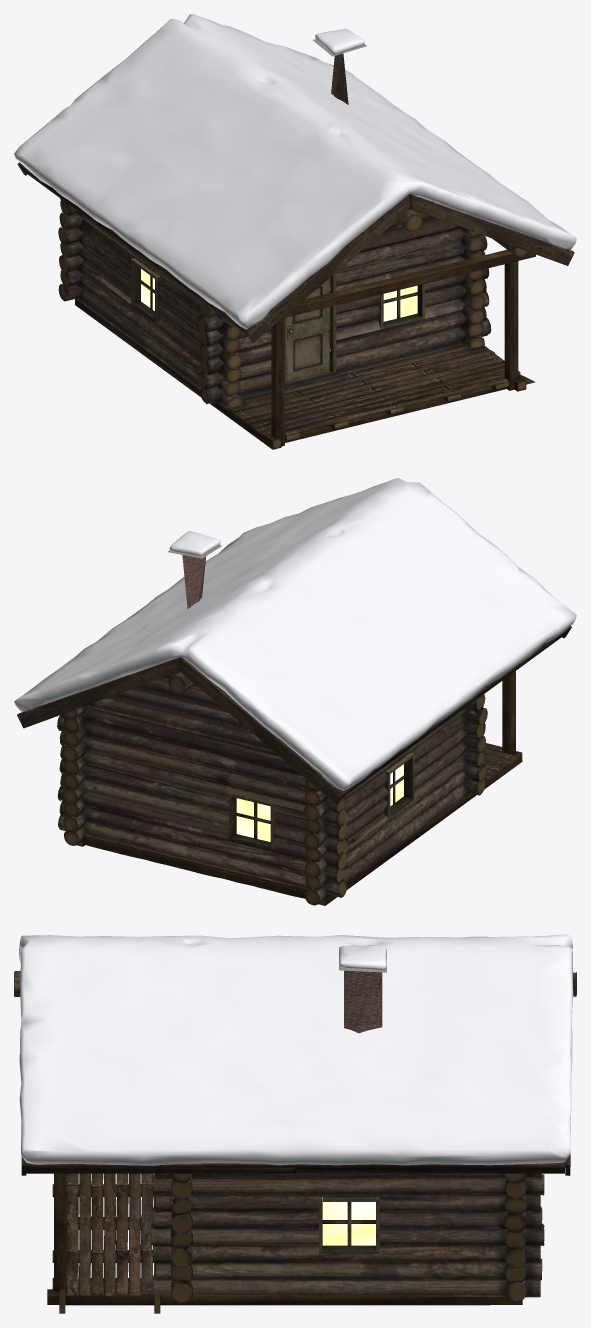
The model's file is cottage.glb.
The picture shows the model from 3 angles, top to bottom: view 1: azimuth 30°, elevation 25°; view 2: azimuth 150°, elevation 25°; view 3: azimuth 270°, elevation 25°; orthographic projection. The views are drawn at different scales.
Visible parts, largest first — view 1: roof_snow, Object_8, Object_9, Object_4, Object_6, Object_10, Object_5, Object_12, Object_20, chimney_snow, chimney; view 2: roof_snow, Object_8, Object_9, Object_10, Object_6, Object_5, Object_20, chimney, chimney_snow, Object_4; view 3: roof_snow, Object_9, Object_4, Object_6, Object_10, Object_8, chimney, Object_20, Object_5, chimney_snow.
Part boxes in pixels (x1=…): roof_snow: x1=14, y1=14, x2=576, y2=329; Object_8: x1=58, y1=198, x2=491, y2=404; Object_9: x1=76, y1=209, x2=528, y2=409; Object_4: x1=227, y1=341, x2=520, y2=436; Object_6: x1=75, y1=250, x2=535, y2=449; Object_10: x1=17, y1=162, x2=574, y2=342; Object_5: x1=131, y1=258, x2=424, y2=386; Object_12: x1=286, y1=278, x2=330, y2=381; Object_20: x1=141, y1=269, x2=417, y2=321; chimney_snow: x1=315, y1=28, x2=364, y2=54; chimney: x1=331, y1=53, x2=348, y2=104; roof_snow: x1=14, y1=478, x2=576, y2=790; Object_8: x1=57, y1=673, x2=487, y2=897; Object_9: x1=62, y1=671, x2=470, y2=905; Object_10: x1=17, y1=626, x2=571, y2=804; Object_6: x1=76, y1=671, x2=522, y2=905; Object_5: x1=229, y1=753, x2=414, y2=850; Object_20: x1=236, y1=764, x2=403, y2=841; chimney: x1=182, y1=555, x2=206, y2=608; chimney_snow: x1=169, y1=531, x2=220, y2=555; Object_4: x1=483, y1=743, x2=517, y2=781; roof_snow: x1=19, y1=934, x2=573, y2=1165; Object_9: x1=14, y1=971, x2=576, y2=1297; Object_4: x1=67, y1=1173, x2=154, y2=1296; Object_6: x1=47, y1=1173, x2=522, y2=1313; Object_10: x1=21, y1=1155, x2=570, y2=1175; Object_8: x1=170, y1=1173, x2=526, y2=1303; chimney: x1=344, y1=970, x2=382, y2=1033; Object_20: x1=322, y1=1197, x2=375, y2=1245; Object_5: x1=319, y1=1196, x2=379, y2=1253; chimney_snow: x1=339, y1=945, x2=386, y2=970.
Bounding box in the file's own units: 0.0617 × 0.047 × 0.0745.
11 materials, 8 textured.
